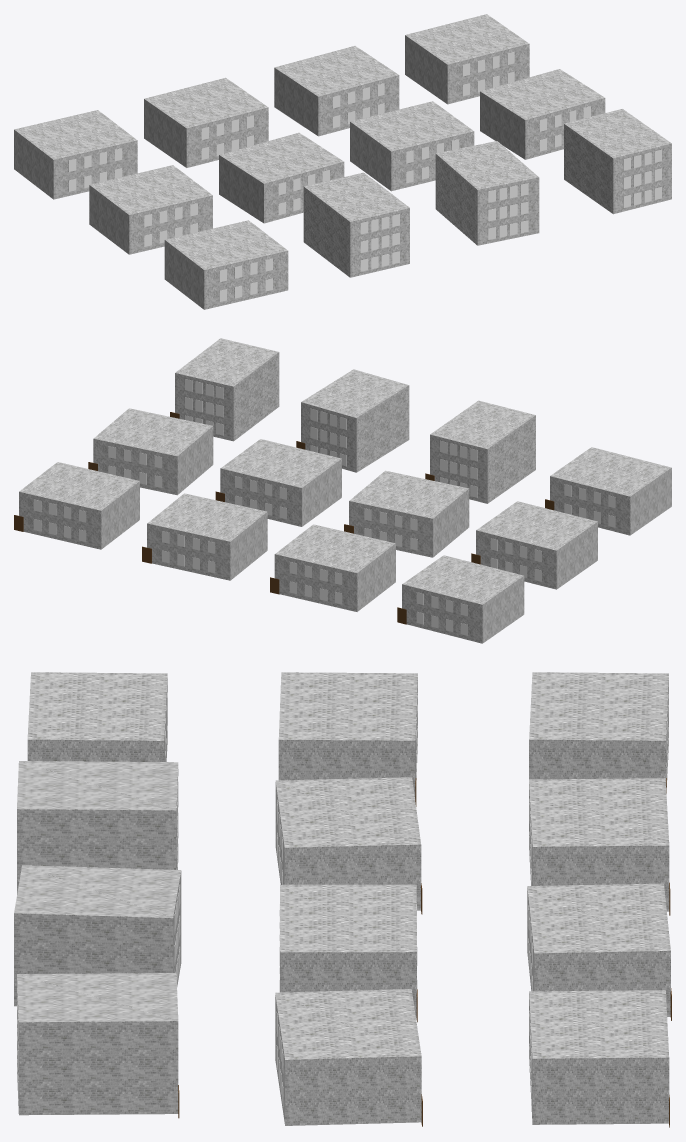
File: bld_mlmolqh7_lqnxiv2.glb
The picture shows the model from 3 angles, top to bottom: view 1: azimuth 30°, elevation 25°; view 2: azimuth 150°, elevation 25°; view 3: azimuth 270°, elevation 25°; orthographic projection. The views are drawn at different scales.
Parts seen in each view (by area): view 1: building-building-1771095617718-14, building-building-1771095617718-12, building-building-1771095617718-11, building-building-1771095617718-13, building-building-1771095617717-3, building-building-1771095617717-4, building-building-1771095617717-2, building-building-1771095617717-1, building-building-1771095617718-6, building-building-1771095617718-7, building-building-1771095617718-8, building-building-1771095617718-9; view 2: building-building-1771095617718-13, building-building-1771095617717-1, building-building-1771095617717-2, building-building-1771095617717-3, building-building-1771095617717-4, building-building-1771095617718-12, building-building-1771095617718-14, building-building-1771095617718-11, building-building-1771095617718-6, building-building-1771095617718-8, building-building-1771095617718-7, building-building-1771095617718-9; view 3: building-building-1771095617718-14, building-building-1771095617718-9, building-building-1771095617717-4, building-building-1771095617718-13, building-building-1771095617718-12, building-building-1771095617718-7, building-building-1771095617717-3, building-building-1771095617717-2, building-building-1771095617718-6, building-building-1771095617718-8, building-building-1771095617717-1, building-building-1771095617718-11.
Boxes of the visible parts, bbox=[...] form: building-building-1771095617718-14: bbox=[564, 109, 671, 214]; building-building-1771095617718-12: bbox=[303, 172, 409, 277]; building-building-1771095617718-11: bbox=[164, 220, 288, 309]; building-building-1771095617718-13: bbox=[435, 141, 539, 245]; building-building-1771095617717-3: bbox=[274, 46, 399, 136]; building-building-1771095617717-4: bbox=[405, 14, 529, 104]; building-building-1771095617717-2: bbox=[144, 77, 268, 167]; building-building-1771095617717-1: bbox=[14, 110, 137, 199]; building-building-1771095617718-6: bbox=[89, 165, 212, 254]; building-building-1771095617718-7: bbox=[219, 132, 344, 223]; building-building-1771095617718-8: bbox=[350, 101, 474, 191]; building-building-1771095617718-9: bbox=[480, 69, 605, 159]; building-building-1771095617718-13: bbox=[296, 369, 409, 472]; building-building-1771095617717-1: bbox=[397, 555, 524, 643]; building-building-1771095617717-2: bbox=[270, 524, 395, 611]; building-building-1771095617717-3: bbox=[142, 493, 267, 580]; building-building-1771095617717-4: bbox=[14, 462, 139, 549]; building-building-1771095617718-12: bbox=[425, 400, 535, 503]; building-building-1771095617718-14: bbox=[170, 338, 279, 441]; building-building-1771095617718-11: bbox=[545, 447, 671, 535]; building-building-1771095617718-6: bbox=[471, 501, 597, 589]; building-building-1771095617718-8: bbox=[215, 439, 341, 526]; building-building-1771095617718-7: bbox=[344, 470, 469, 557]; building-building-1771095617718-9: bbox=[88, 408, 213, 495]; building-building-1771095617718-14: bbox=[17, 973, 179, 1118]; building-building-1771095617718-9: bbox=[275, 989, 422, 1126]; building-building-1771095617717-4: bbox=[529, 990, 669, 1127]; building-building-1771095617718-13: bbox=[14, 865, 181, 1006]; building-building-1771095617718-12: bbox=[17, 761, 178, 894]; building-building-1771095617718-7: bbox=[275, 777, 422, 914]; building-building-1771095617717-3: bbox=[527, 883, 671, 1020]; building-building-1771095617717-2: bbox=[529, 778, 670, 915]; building-building-1771095617718-6: bbox=[278, 672, 417, 806]; building-building-1771095617718-8: bbox=[280, 884, 417, 1022]; building-building-1771095617717-1: bbox=[529, 672, 668, 793]; building-building-1771095617718-11: bbox=[27, 672, 167, 761].
Bounding box in the file's own units: 80.8 × 9.03 × 57.73.
60 materials, 12 textured.
